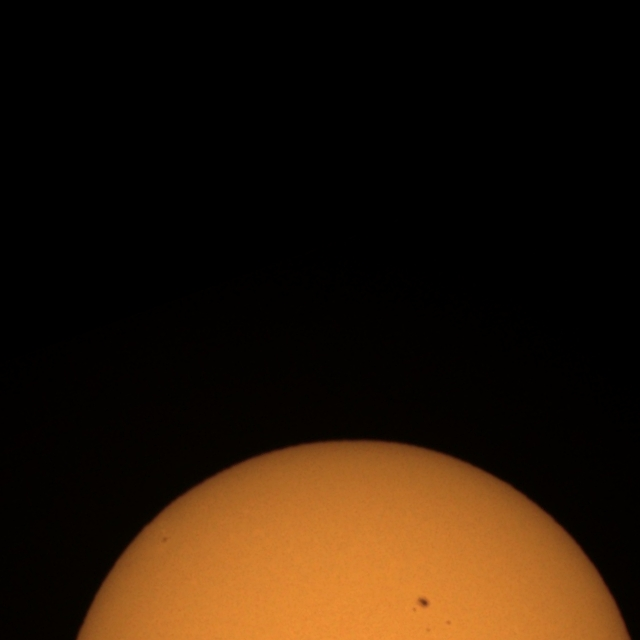sunspot: (412, 596, 430, 614), (161, 535, 170, 545), (444, 619, 452, 627), (425, 626, 432, 634)
